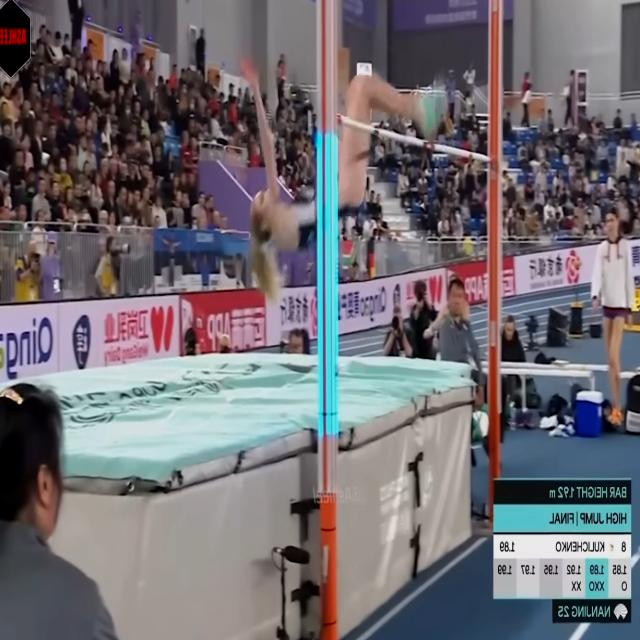land: (247, 58, 452, 252)
